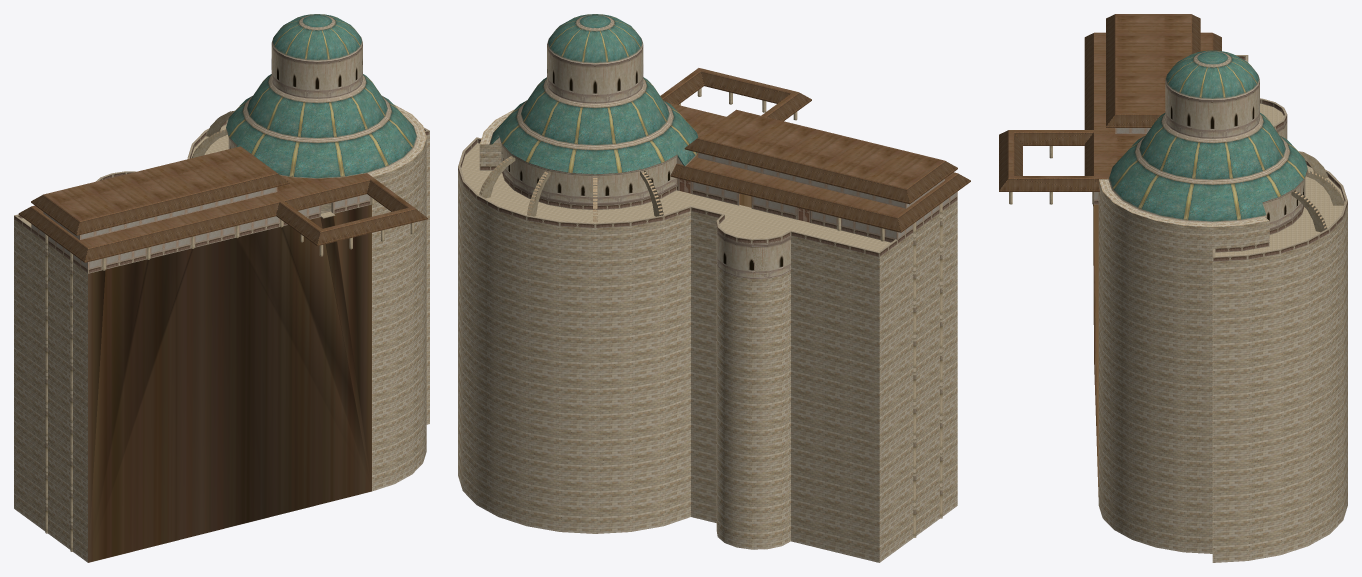
Rendered from thm_nboo_thed_emp_retreat_r0_mesh_l0.fbx.
The picture shows the model from 3 angles, left to right: view 1: azimuth 30°, elevation 25°; view 2: azimuth 150°, elevation 25°; view 3: azimuth 270°, elevation 25°; orthographic projection. The views are drawn at different scales.
Parts seen in each view (by area): view 1: mesh_node; view 2: mesh_node; view 3: mesh_node.
Part boxes in pixels (x1,y1,x2,y2): mesh_node: [14, 14, 429, 562]; mesh_node: [458, 14, 970, 562]; mesh_node: [999, 14, 1347, 562].
Size of the model in its own units: 103 by 105 by 73.5.
